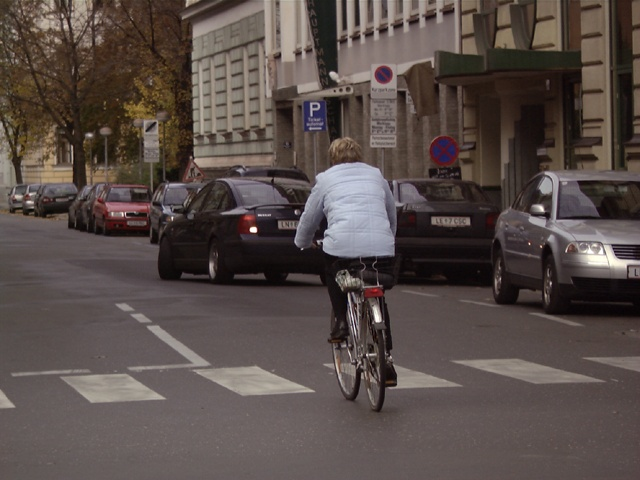person: (296, 138, 399, 396)
